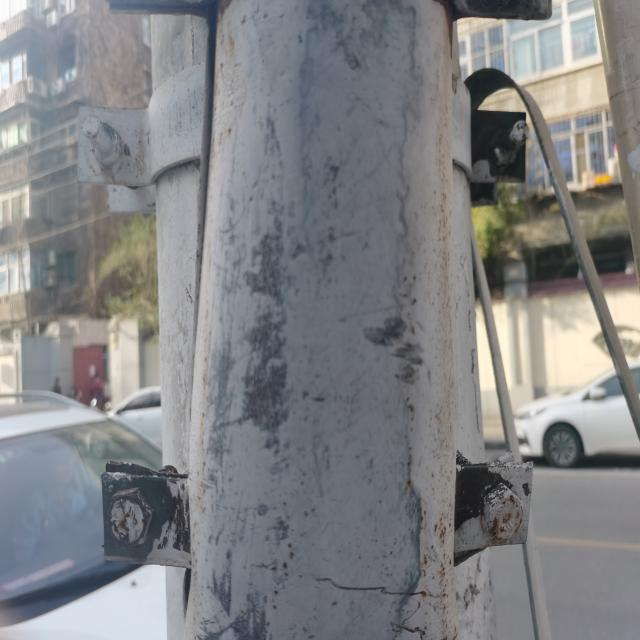blur bolt: (490, 126, 520, 168)
bolt head: (103, 484, 157, 549), (480, 479, 524, 545)
bolt nut: (89, 120, 124, 168)
